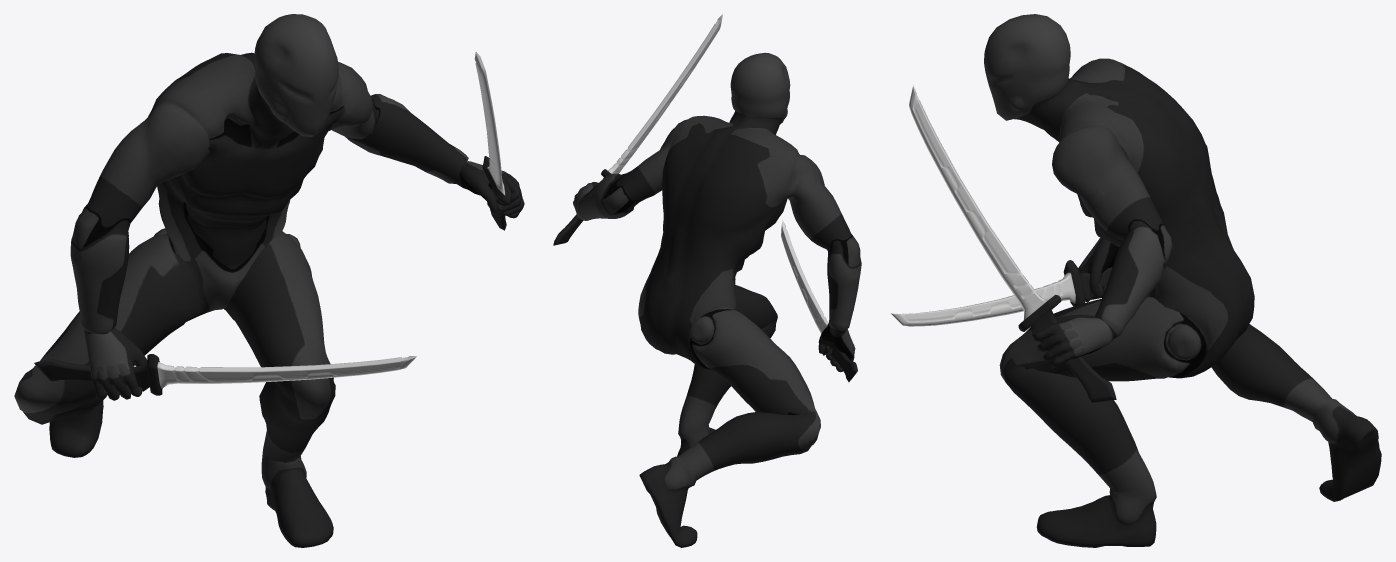
3 views of the same model, side by side, from view 1: azimuth 30°, elevation 25°; view 2: azimuth 150°, elevation 25°; view 3: azimuth 270°, elevation 25° (orthographic). The views are drawn at different scales.
Visible parts, largest first — view 1: Cyborg_Ninja_Killer, Sword_l001, Sword_l; view 2: Cyborg_Ninja_Killer, Sword_l, Sword_l001; view 3: Cyborg_Ninja_Killer, Sword_l, Sword_l001.
Boxes of the visible parts, <box> form: Cyborg_Ninja_Killer: <box>14,14,524,547</box>; Sword_l001: <box>34,354,416,395</box>; Sword_l: <box>474,52,511,230</box>; Cyborg_Ninja_Killer: <box>573,52,861,547</box>; Sword_l: <box>553,14,722,245</box>; Sword_l001: <box>781,220,857,382</box>; Cyborg_Ninja_Killer: <box>984,14,1381,547</box>; Sword_l: <box>909,85,1116,402</box>; Sword_l001: <box>890,260,1112,326</box>.
Bounding box in the file's own units: 114 × 133 × 117.
2 materials, 2 textured.
